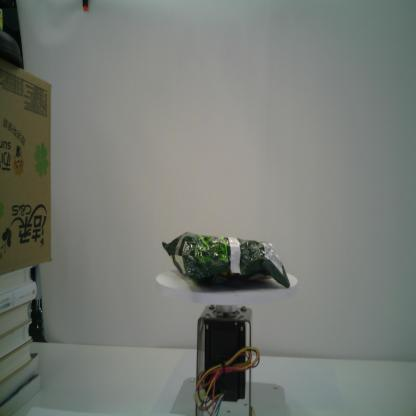Instant Noodles: (160, 229, 291, 292)
